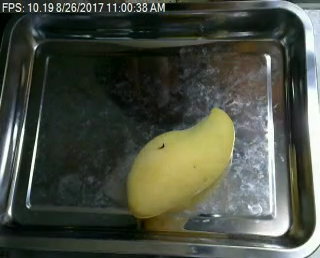Mango: (122, 108, 238, 220)
